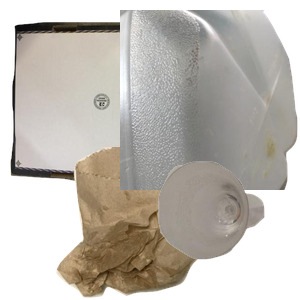cardboard: (10, 19, 250, 199)
glass: (156, 159, 300, 300)
plastic: (120, 10, 300, 190)
trash: (54, 147, 271, 300)
